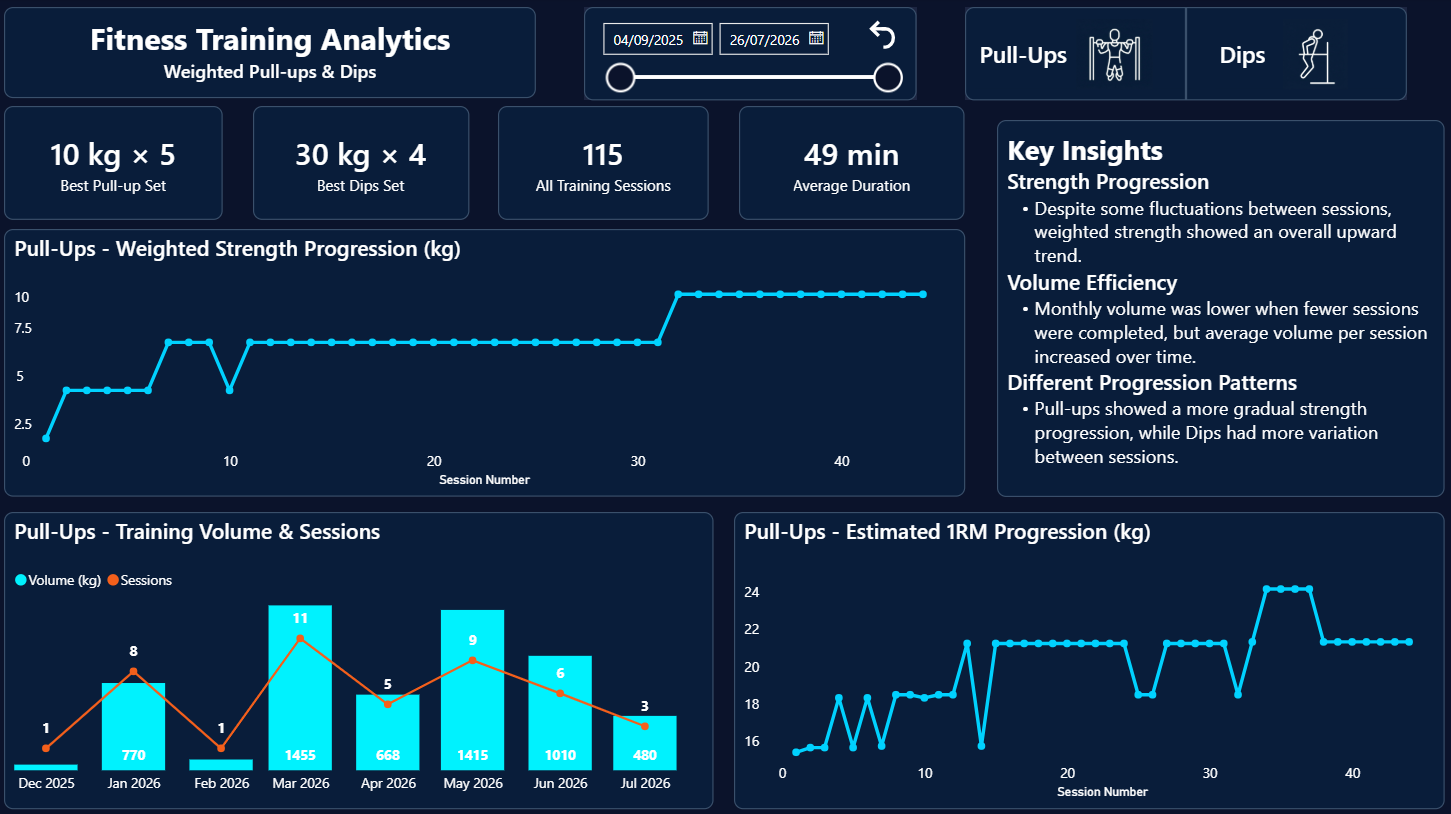

The dashboard page shown, as its layout file describes it:
{"tool":"powerbi","page":{"name":"Training Overview","canvas":[1280,720],"ordinal":0},"visuals":[{"type":"shape","box":[851.7,7.9,388.1,81.7],"z":0,"group":"g2"},{"type":"cardVisual","fields":{"Data":["vw_BestSetProgression.Best Pull-up Set"]},"box":[7.9,94.8,192.3,100.1],"z":0},{"type":"group","id":"g1","title":"Group 2","box":[851.7,7.9,388.1,81.7],"z":1000,"group":"g4"},{"type":"actionButton","box":[860.3,18.5,195,61],"z":1000,"group":"g2"},{"type":"cardVisual","fields":{"Data":["vw_BestSetProgression.Best Dips Set"]},"box":[226.2,94.8,189.7,100.1],"z":1000},{"type":"group","id":"g2","title":"Group 1","box":[851.7,7.9,388.1,81.7],"z":2000,"group":"g1"},{"type":"actionButton","box":[1070.8,18.5,156.8,61],"z":2000,"group":"g2"},{"type":"cardVisual","fields":{"Data":["Count(FactTrainingSets.TrainingID)"]},"box":[442,94.8,185.3,100.1],"z":2000},{"type":"shape","box":[1037.8,7.9,15.8,81.7],"z":3000,"group":"g4"},{"type":"cardVisual","fields":{"Data":["Avg(DimTraining.DurationMinutes)"]},"box":[653.3,94.8,198.4,100.1],"z":3000},{"type":"lineChart","title":"Pull-Ups - Weighted Strength Progression (kg)","fields":{"Category":["vw_BestSetProgression.TrainingNumber"],"Y":["Max(vw_BestSetProgression.WeightKg)"]},"box":[7.9,202.8,843.8,235.3],"z":4000},{"type":"lineClusteredColumnComboChart","title":"Pull-Ups - Training Volume  & Sessions","fields":{"Category":["vw_MonthlyTrainingVolume.TrainingMonth"],"Y":["vw_MonthlyTrainingVolume.Monthly Volume Filtered"],"Y2":["vw_MonthlyTrainingVolume.Monthly Sessions Filtered"]},"box":[7.9,451.3,622.5,260.8],"z":5000},{"type":"lineChart","title":"Pull-Ups - Estimated 1RM Progression (kg)","fields":{"Category":["vw_BestSetProgression.TrainingNumber"],"Y":["vw_BestSetProgression.Estimated 1RM"]},"box":[648.9,451.3,624.3,260.8],"z":6000},{"type":"textbox","box":[7.9,7.9,467.1,79.9],"z":7000},{"type":"slicer","title":"Date Range","fields":{"Values":["DimDate.Date"]},"box":[517.2,7.9,292.4,82],"z":9000,"group":"g3"},{"type":"actionButton","box":[762.2,14.9,34.2,34.2],"z":10000,"group":"g3"},{"type":"group","id":"g3","title":"Group 3","box":[517.2,7.9,292.4,81.7],"z":11000},{"type":"group","id":"g4","title":"Group 4","box":[851.7,7.9,388.1,81.7],"z":12000},{"type":"textbox","box":[879.8,107.1,393.4,331],"z":12001},{"type":"image","box":[946.8,18.5,72.9,62.3],"z":14000,"group":"g1"},{"type":"image","box":[1124.2,18.5,71.1,62.3],"z":15000,"group":"g1"}]}

Visuals, with their boxes in screenshot pixels (x1, y1, x2, y2), scaled from the page's 1280x720 canvas onto the 1451x814 screenshot:
shape: 965 9 1405 101
cardVisual - vw_BestSetProgression.Best Pull-up Set: 9 107 227 220
"Group 2" group: 965 9 1405 101
actionButton: 975 21 1196 90
cardVisual - vw_BestSetProgression.Best Dips Set: 256 107 471 220
"Group 1" group: 965 9 1405 101
actionButton: 1214 21 1392 90
cardVisual - Count(FactTrainingSets.TrainingID): 501 107 711 220
shape: 1176 9 1194 101
cardVisual - Avg(DimTraining.DurationMinutes): 741 107 965 220
"Pull-Ups - Weighted Strength Progression (kg)" lineChart: 9 229 965 495
"Pull-Ups - Training Volume  & Sessions" lineClusteredColumnComboChart: 9 510 715 805
"Pull-Ups - Estimated 1RM Progression (kg)" lineChart: 736 510 1443 805
textbox: 9 9 538 99
"Date Range" slicer: 586 9 918 102
actionButton: 864 17 903 56
"Group 3" group: 586 9 918 101
"Group 4" group: 965 9 1405 101
textbox: 997 121 1443 495
image: 1073 21 1156 91
image: 1274 21 1355 91
